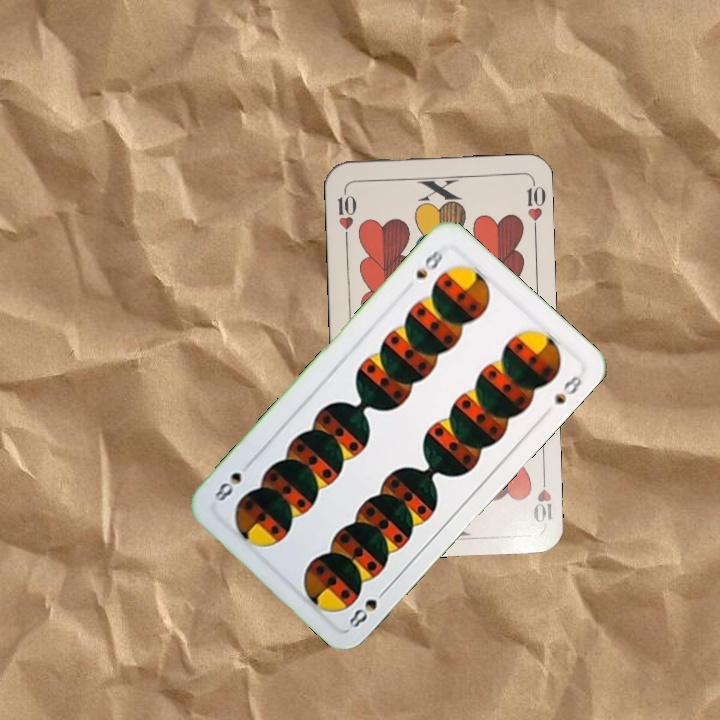H10: (333, 184, 359, 244), (529, 468, 555, 526)
S8: (344, 583, 391, 631), (411, 242, 446, 281)
